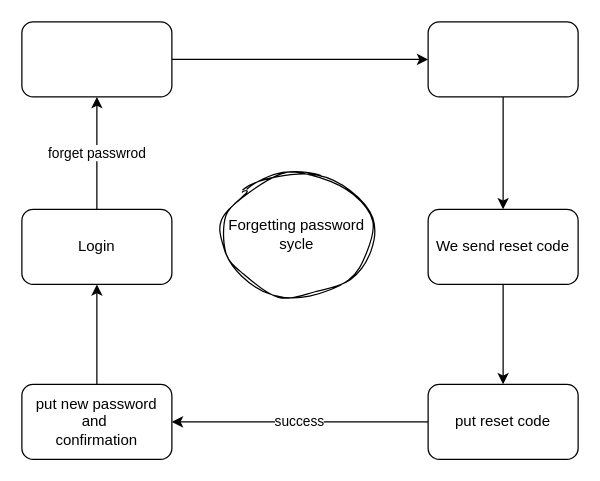
The diagram is 600 pixels wide and 481 high, and some of its shapes have lost their labels. Each missing label, with the box of its shape:
Forget password: (21, 21, 172, 97)
send email or phone: (427, 21, 578, 97)
